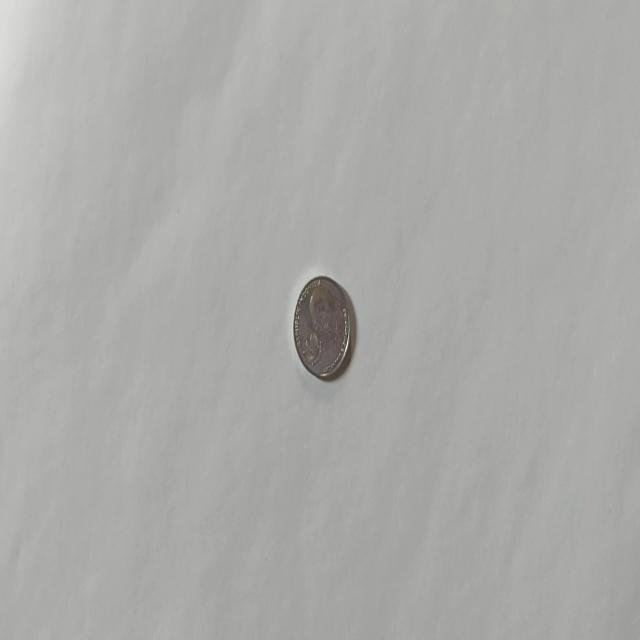lima ratus rupiah: (292, 274, 351, 381)
